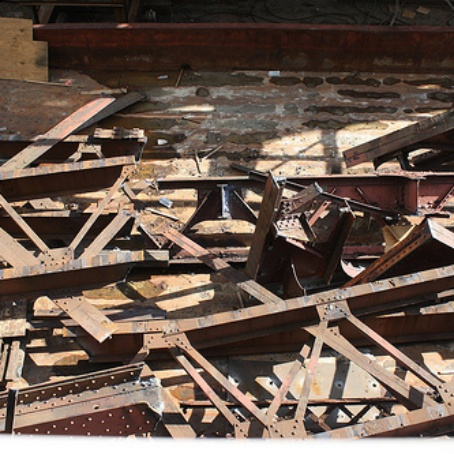debris: (6, 83, 454, 454)
